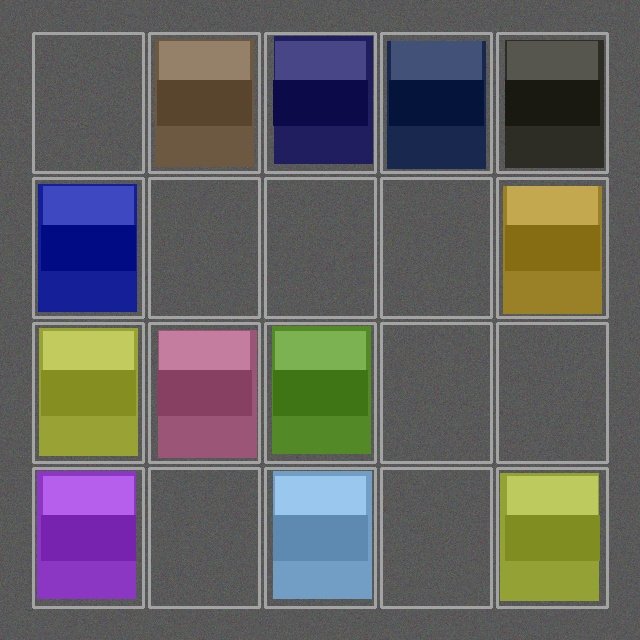space-empty: (35, 35, 141, 170), (151, 180, 257, 315), (267, 180, 373, 315), (383, 180, 489, 315), (383, 325, 489, 460), (499, 325, 605, 460), (151, 470, 257, 605), (383, 470, 489, 605)
space-occupied: (151, 35, 257, 170), (267, 35, 373, 170), (383, 35, 489, 170), (499, 35, 605, 170), (35, 180, 141, 315), (499, 180, 605, 315), (35, 325, 141, 460), (151, 325, 257, 460), (267, 325, 373, 460), (35, 470, 141, 605), (267, 470, 373, 605), (499, 470, 605, 605)
